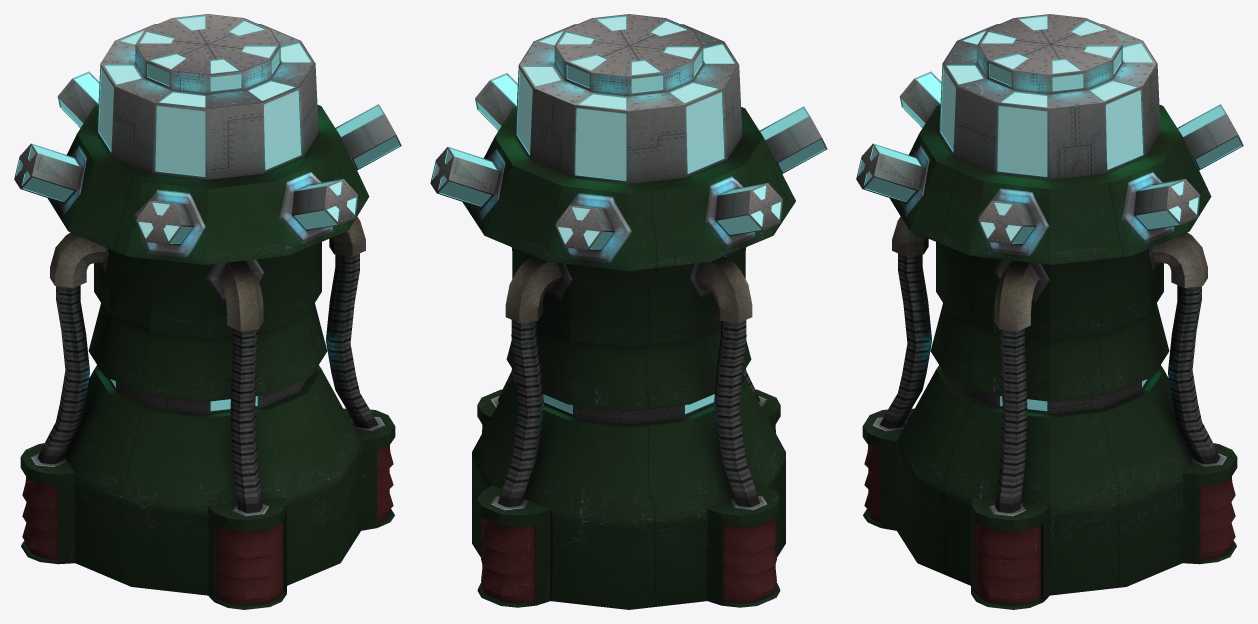
Rendered from Plasma_Genorator.fbx.
3 views of the same model, side by side, from view 1: azimuth 30°, elevation 25°; view 2: azimuth 150°, elevation 25°; view 3: azimuth 270°, elevation 25° (orthographic). The views are drawn at different scales.
Visible parts, largest first — view 1: Cylinder04; view 2: Cylinder04; view 3: Cylinder04.
Boxes of the visible parts, x1,y1,x2,y2 form: Cylinder04: (14,14,401,609); Cylinder04: (430,14,827,609); Cylinder04: (856,14,1243,609).
Bounding box in the file's own units: 346 × 478 × 346.
